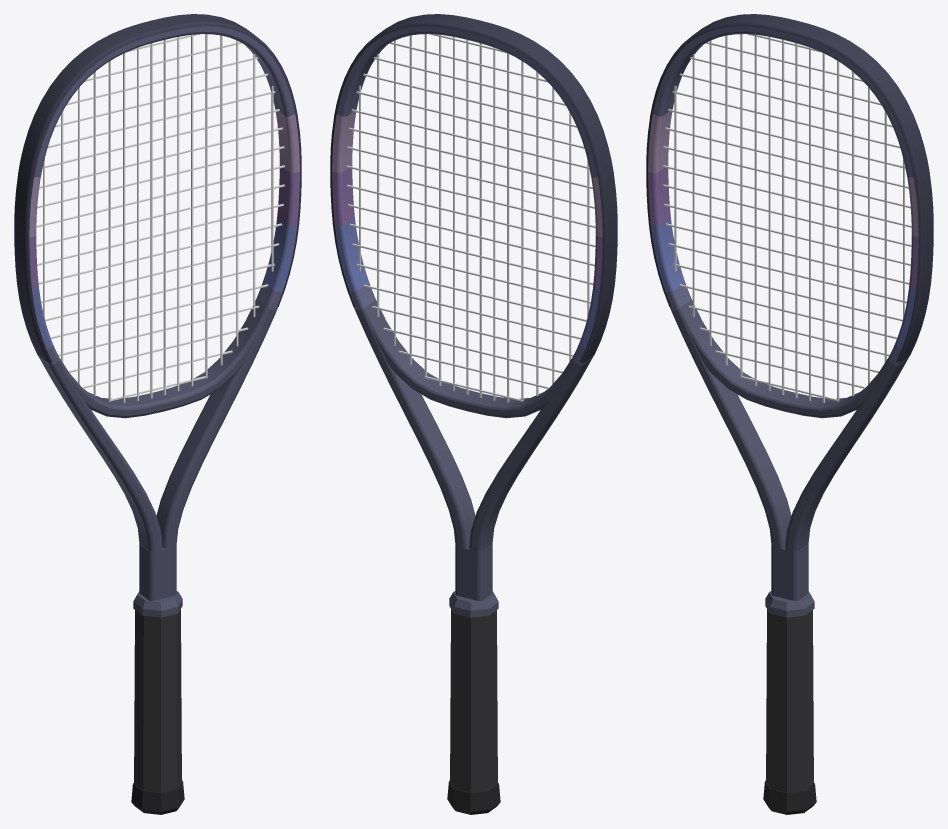
The model's file is yonex-percept-97.glb.
3 renders of one model, left to right at view 1: azimuth 30°, elevation 25°; view 2: azimuth 150°, elevation 25°; view 3: azimuth 330°, elevation 25°, orthographic.
Parts seen in each view (by area): view 1: frame, strings_mains, strings_crosses, grip, bumper, grommets, butt_cap, collar; view 2: frame, strings_mains, strings_crosses, grip, bumper, grommets, butt_cap, collar; view 3: frame, strings_mains, strings_crosses, grip, bumper, grommets, butt_cap, collar.
Boxes of the visible parts, x1,y1,x2,y2 form: frame: (29, 26, 299, 600); strings_mains: (43, 34, 273, 402); strings_crosses: (36, 34, 284, 401); grip: (134, 609, 181, 792); bumper: (18, 14, 297, 183); grommets: (14, 118, 301, 362); butt_cap: (131, 780, 184, 814); collar: (133, 591, 182, 617); frame: (332, 26, 602, 600); strings_mains: (359, 34, 589, 402); strings_crosses: (346, 34, 595, 401); grip: (450, 609, 497, 792); bumper: (334, 14, 613, 183); grommets: (330, 118, 617, 362); butt_cap: (447, 780, 500, 814); collar: (449, 591, 498, 617); frame: (648, 26, 918, 600); strings_mains: (674, 34, 904, 402); strings_crosses: (663, 34, 911, 401); grip: (766, 609, 813, 792); bumper: (650, 14, 929, 183); grommets: (646, 118, 933, 362); butt_cap: (763, 780, 816, 814); collar: (765, 591, 814, 617).
Size of the model in its own units: 0.2546 by 0.6861 by 0.0396.
